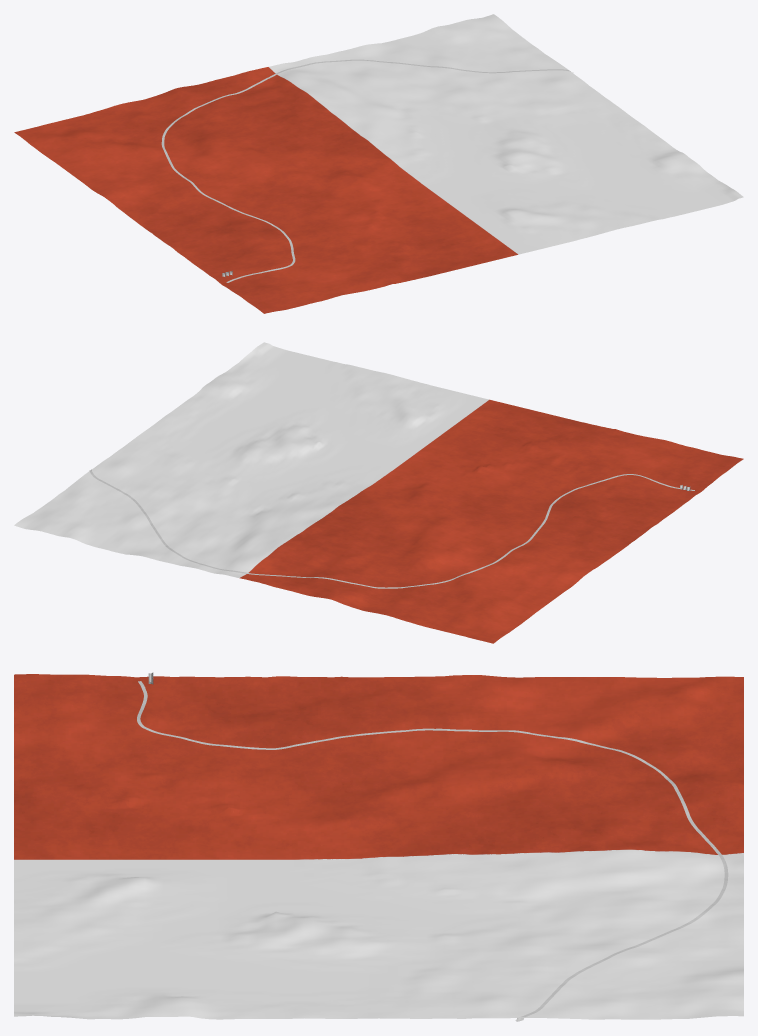
The model's file is AC-CIRCUIT.fbx.
The picture shows the model from 3 angles, top to bottom: view 1: azimuth 30°, elevation 25°; view 2: azimuth 150°, elevation 25°; view 3: azimuth 270°, elevation 25°; orthographic projection. The views are drawn at different scales.
Parts seen in each view (by area): view 1: 1GRASS0, 1ROAD0; view 2: 1GRASS0, 1ROAD0; view 3: 1GRASS0, 1ROAD0.
Part boxes in pixels (x1,y1,x2,y2): 1GRASS0: [14, 14, 743, 313]; 1ROAD0: [161, 59, 573, 282]; 1GRASS0: [14, 342, 743, 643]; 1ROAD0: [89, 469, 694, 588]; 1GRASS0: [14, 674, 743, 1019]; 1ROAD0: [137, 681, 728, 1021].
Size of the model in its own units: 2683 by 39.37 by 2412.
